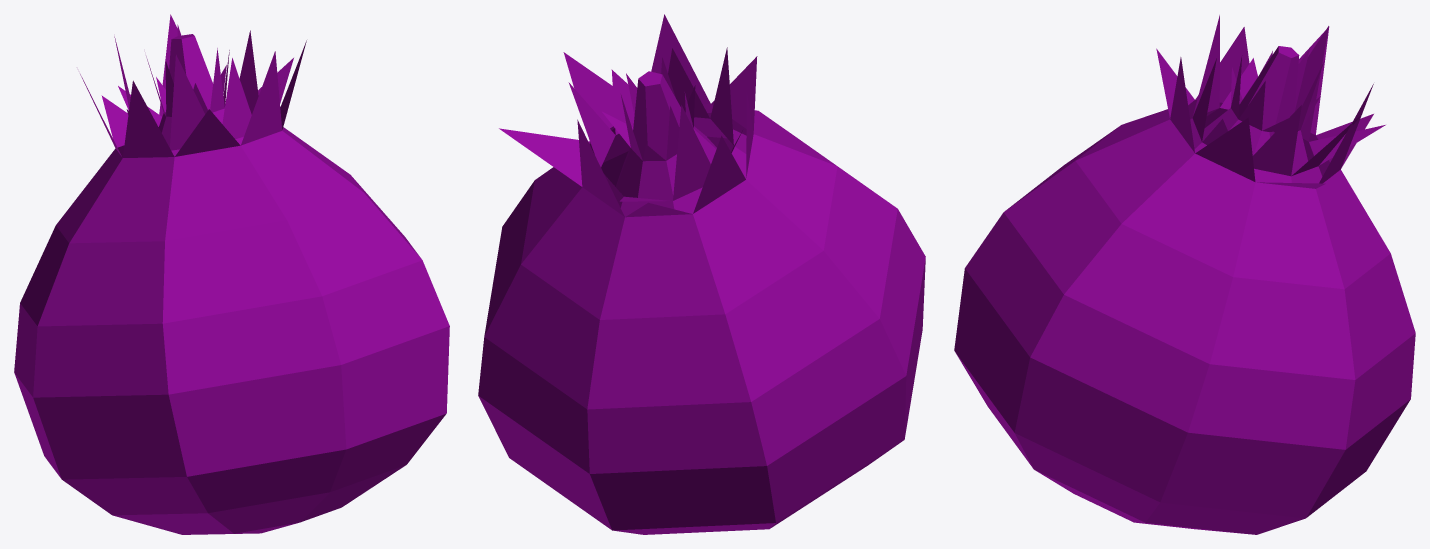
The model's file is onion_3d.glb.
The picture shows the model from 3 angles, left to right: view 1: azimuth 30°, elevation 25°; view 2: azimuth 150°, elevation 25°; view 3: azimuth 270°, elevation 25°; orthographic projection. The views are drawn at different scales.
Visible parts, largest first — view 1: onion_layer1, onion_layer2, onion_layer3, onion_layer4; view 2: onion_layer1, onion_layer2, onion_layer3, onion_layer4; view 3: onion_layer1, onion_layer2, onion_layer3, onion_layer4.
Part boxes in pixels (<box>): onion_layer1: <box>14,14,449,534</box>; onion_layer2: <box>114,30,258,156</box>; onion_layer3: <box>146,24,229,147</box>; onion_layer4: <box>165,34,212,116</box>; onion_layer1: <box>478,14,925,534</box>; onion_layer2: <box>568,47,746,216</box>; onion_layer3: <box>602,57,716,200</box>; onion_layer4: <box>633,71,680,160</box>; onion_layer1: <box>954,26,1415,534</box>; onion_layer2: <box>1190,15,1385,183</box>; onion_layer3: <box>1202,48,1323,175</box>; onion_layer4: <box>1238,46,1299,137</box>.
Bounding box in the file's own units: 0.6 × 0.6715 × 0.5906.
